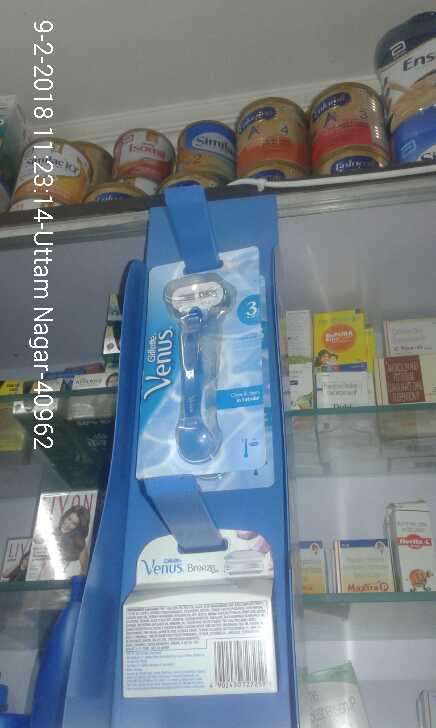venus: (143, 261, 277, 479)
